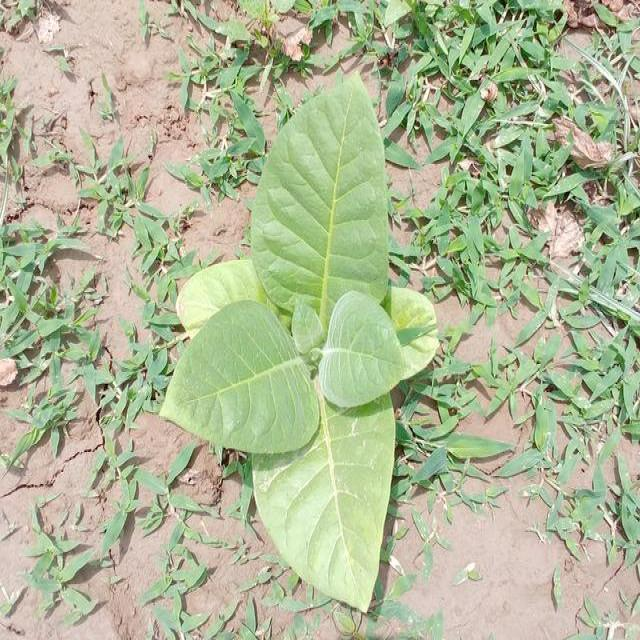crop: (163, 76, 434, 613)
